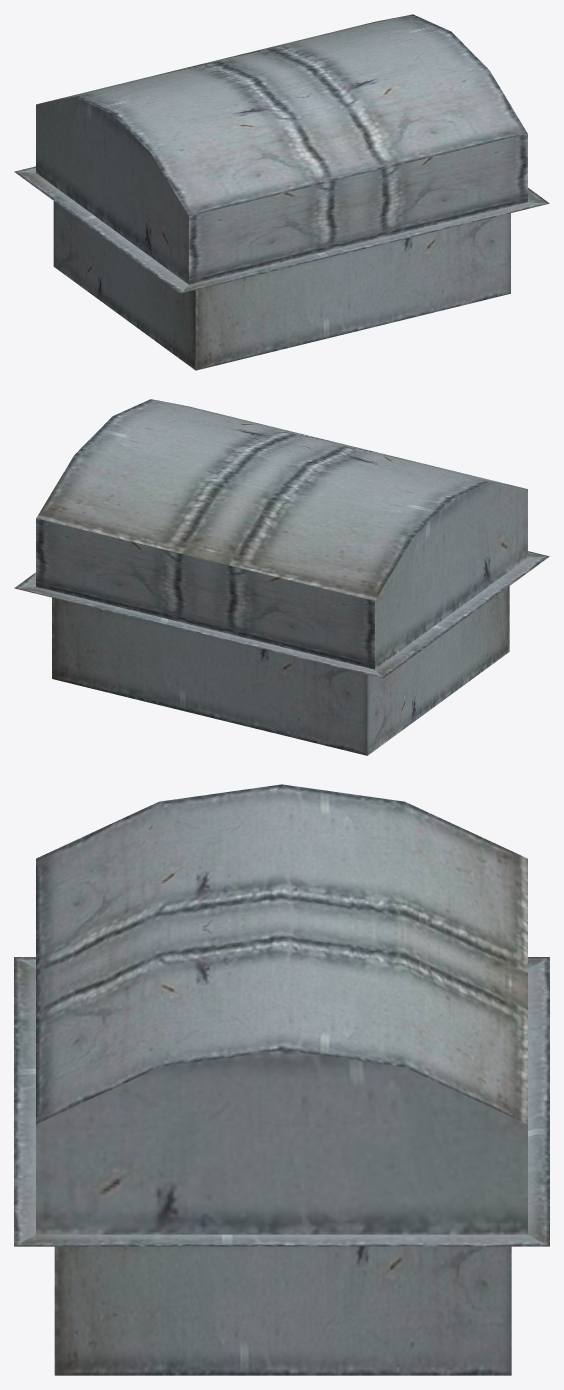
File: Airvent2.fbx
The picture shows the model from 3 angles, top to bottom: view 1: azimuth 30°, elevation 25°; view 2: azimuth 150°, elevation 25°; view 3: azimuth 270°, elevation 25°; orthographic projection. The views are drawn at different scales.
Parts seen in each view (by area): view 1: Airvent2; view 2: Airvent2; view 3: Airvent2.
Part boxes in pixels (<box>): Airvent2: <box>14,14,549,370</box>; Airvent2: <box>14,399,549,755</box>; Airvent2: <box>14,784,549,1375</box>.
Size of the model in its own units: 115 by 62 by 90.17.
